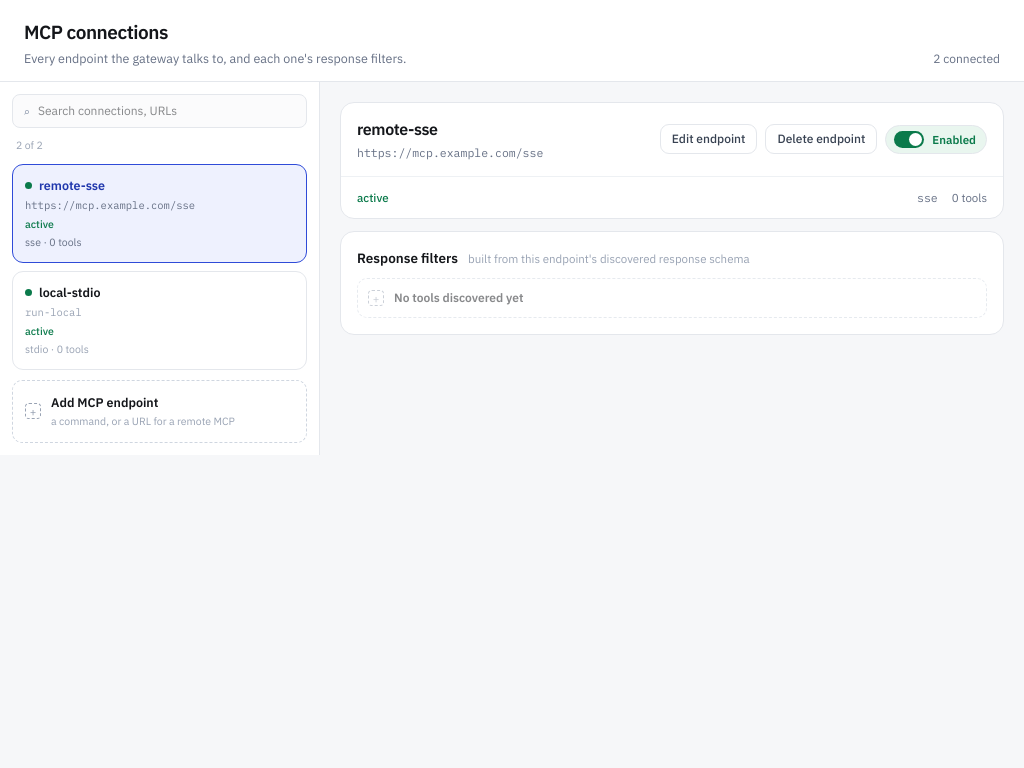
Scenario: InstancesScreen › resets the edit form's state when switching to a different endpoint
The width and height of the screenshot is (1024, 768).
Expected: the button "remote-sse https://mcp.example.com/sse active sse · 0 tools" is shown, [12,164,307,263]
Click the button "Edit endpoint".
click(709, 139)  # box [660,124,758,154]
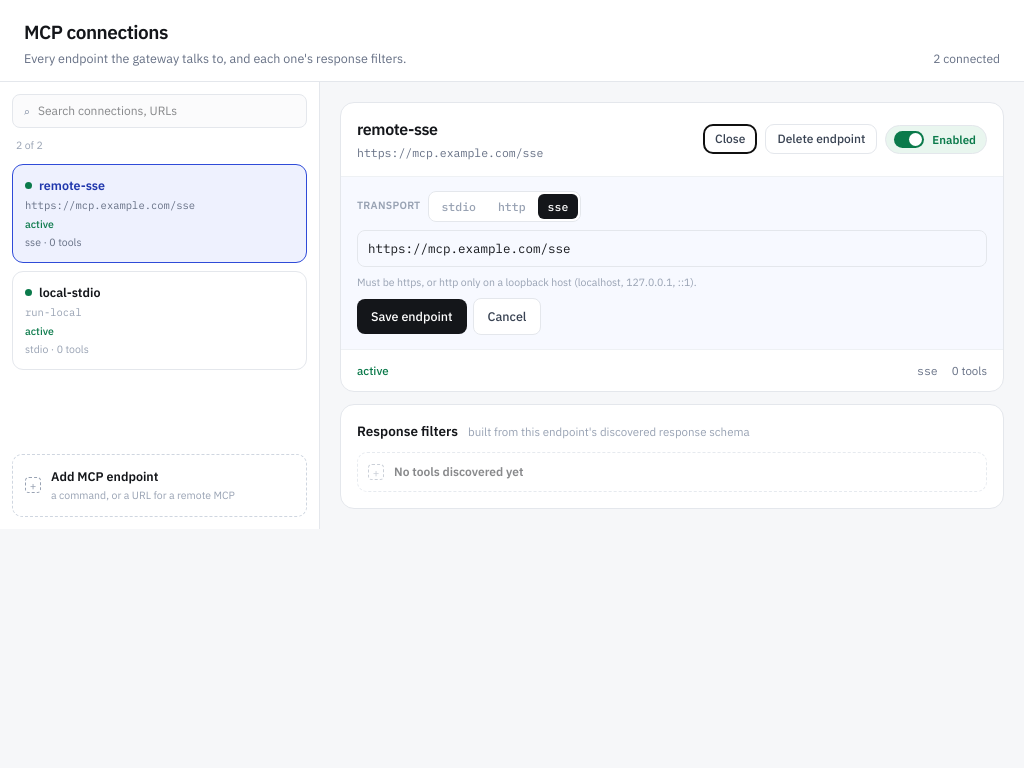
Expected: the radio button labelled "sse" is checked, [538,194,578,219]
Expected: the field named "URL" holds "https://mcp.example.com/sse", [357,230,987,267]
Click the radio button labelled "http".
click(512, 206)  # box [488,194,536,219]
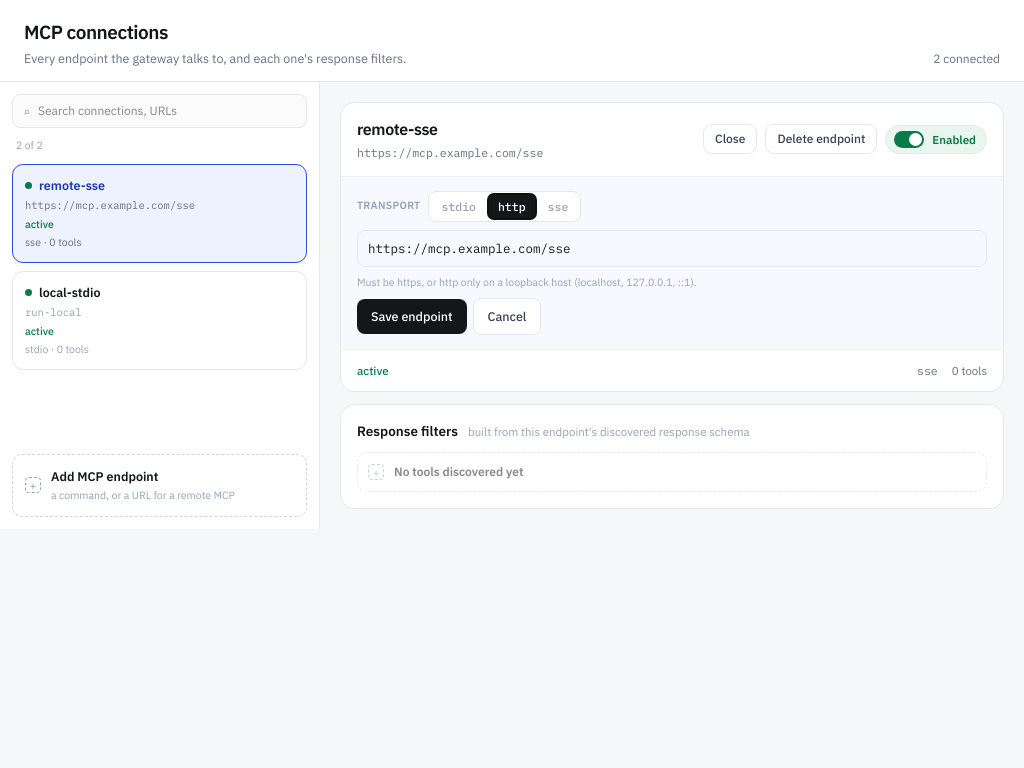
Click the button "local-stdio run-local active stdio · 0 tools".
click(70, 292)  # box [12,271,307,370]
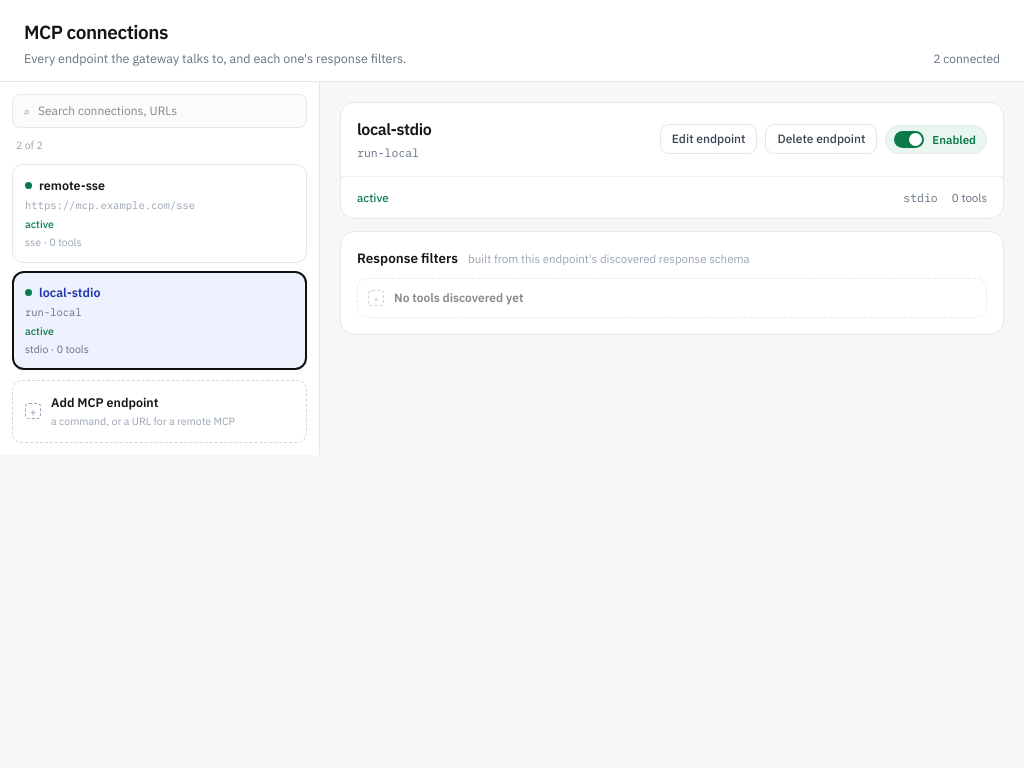
Expected: the button "Save endpoint" is gone
Opening the newly-selected endpoint's editor shows *its* values.
Click the button "Edit endpoint".
click(709, 139)  # box [660,124,758,154]
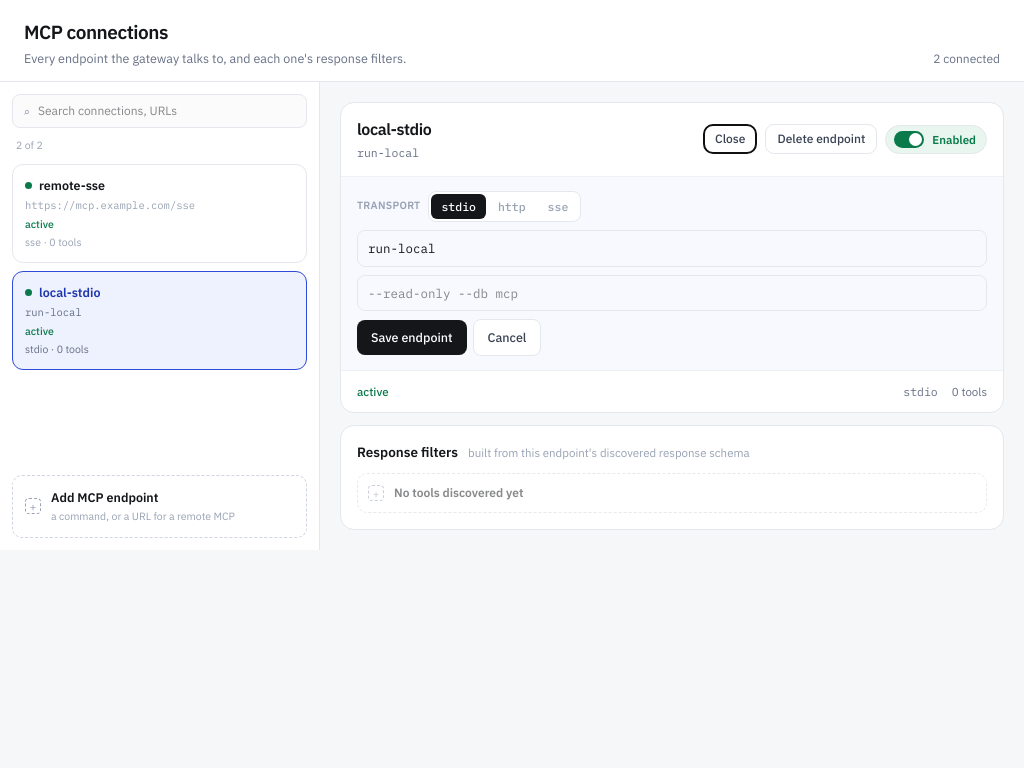
Expected: the radio button labelled "stdio" is checked, [432,194,486,219]
Expected: the field named "Command" holds "run-local", [357,230,987,267]
